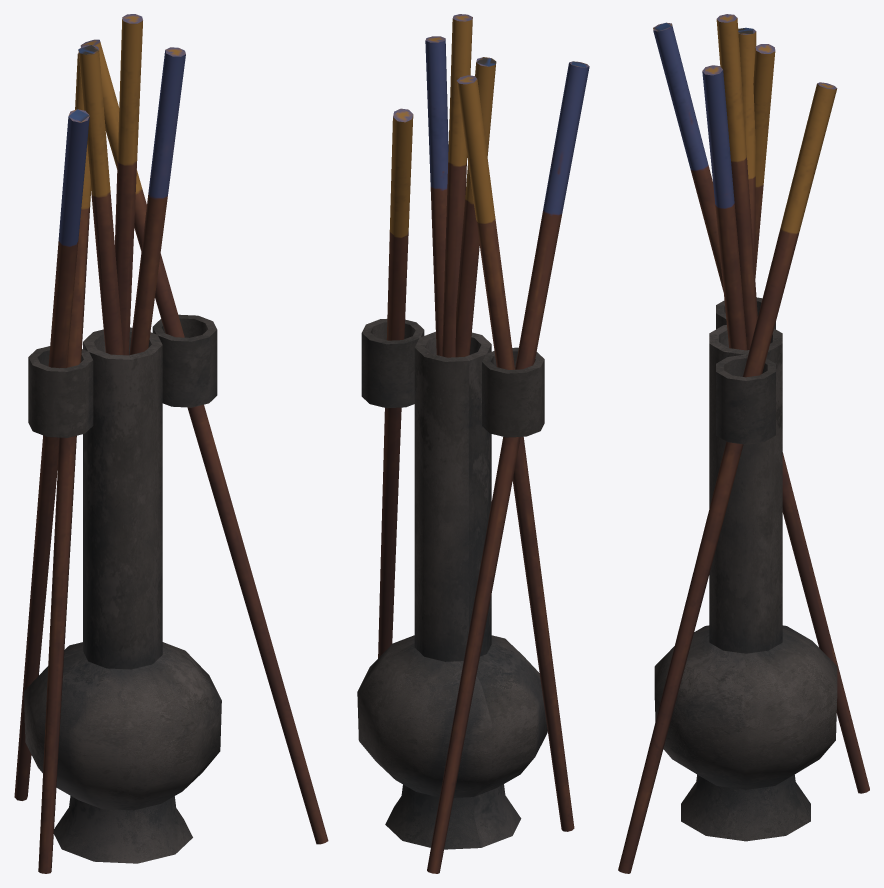
File: tuho.fbx
3 views of the same model, side by side, from view 1: azimuth 30°, elevation 25°; view 2: azimuth 150°, elevation 25°; view 3: azimuth 270°, elevation 25° (orthographic). The views are drawn at different scales.
Visible parts, largest first — view 1: tuho; view 2: tuho; view 3: tuho.
Part boxes in pixels (x1,y1,x2,y2): tuho: (14, 14, 328, 873); tuho: (357, 14, 589, 873); tuho: (618, 14, 869, 873).
Bounding box in the file's own units: 31.68 × 101 × 29.13.
